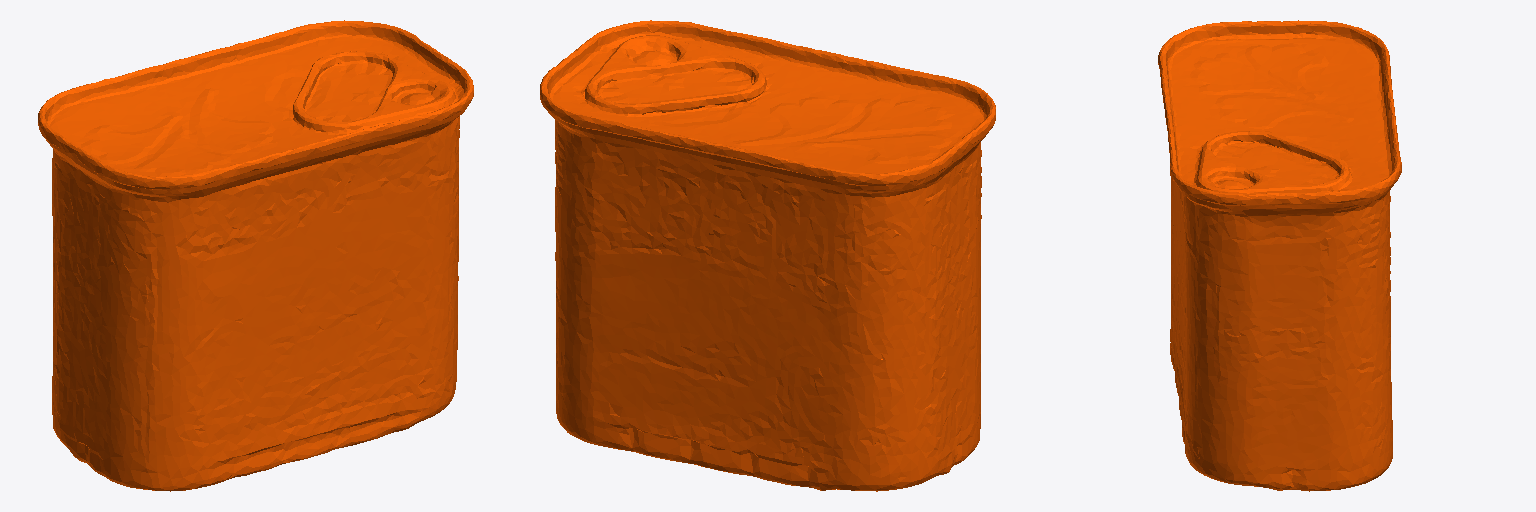
robot.urdf — 010_potted_meat_can:
<?xml version="1.0" ?>
<robot name="010_potted_meat_can">
   <material name="obj_color">
      <color rgba="1.0 0.423529411765 0.0392156862745 1.0"/>
   </material>
   <link name="top">
      <inertial>
         <origin rpy="0.000488537778601859 0.0006327051440763643 0.0008403239293310468" xyz="-0.001230484224069812 -0.0003171367117891452 -0.008912370051119894"/>
         <mass value="0.694097859767717"/>
         <inertia ixx="0.0004896088671565179" ixy="-1.932346122902557e-05" ixz="-1.077851756096476e-06" iyy="0.0008392351493004728" iyz="2.177795072347051e-06" izz="0.00063272283555228"/>
      </inertial>
      <visual>
         <origin rpy="0 0 0" xyz="0 0 0"/>
         <geometry>
            <mesh filename="top_watertight_tiny.stl" scale="1 1 1"/>
         </geometry>
         <material name="obj_color"/>
      </visual>
      <collision>
         <origin rpy="0 0 0" xyz="0 0 0"/>
         <geometry>
            <mesh filename="top_watertight_tiny.obj" scale="1 1 1"/>
         </geometry>
      </collision>
   </link>
   <link name="bottom">
      <inertial>
         <origin rpy="1.633333333199431e-08 1.633333333199431e-08 1.633333333362855e-08" xyz="0.3464080000000008 0.3464080000000008 0.3464080000000008"/>
         <mass value="0.0009800000000000017"/>
         <inertia ixx="1.633333333253906e-08" ixy="5.447480642029219e-19" ixz="5.447480642029219e-19" iyy="1.633333333253906e-08" iyz="5.447480642029219e-19" izz="1.633333333253906e-08"/>
      </inertial>
      <visual>
         <origin rpy="0 0 0" xyz="0 0 0"/>
         <geometry>
            <mesh filename="bottom_watertight_tiny.stl" scale="1 1 1"/>
         </geometry>
         <material name="obj_color"/>
      </visual>
   </link>
   <joint name="rotation" type="revolute">
      <origin xyz="0 0 0"/>
      <axis xyz="0 0 -1"/>
      <parent link="bottom"/>
      <child link="top"/>
      <dynamics damping="1.0" friction="1.0"/>
      <limit effort="0.1" velocity="0.1" lower="0" upper="0.001"/>
   </joint>
</robot>

--- Facts derived from the render (not from the file) ---
Views: 3 orthographic renders of the robot side by side, from view 1: azimuth 30°, elevation 25°; view 2: azimuth 150°, elevation 25°; view 3: azimuth 270°, elevation 25°.
Robot: 010_potted_meat_can — 2 links, 1 joints (1 revolute); root link bottom; default pose: all joints at 0.
Links seen in each view (by area): view 1: top; view 2: top; view 3: top.
Boxes of the visible links, <box> form: top: <box>38,20,473,491</box>; top: <box>540,20,995,491</box>; top: <box>1158,20,1401,491</box>.
Size in the robot's own frame: 0.1021 by 0.0601 by 0.0835 metres.
Meshes: 2 distinct files referenced, 1 mesh visuals loaded (1 binary STL); not drawn: 1 (reference not matched to a file when rendering).
